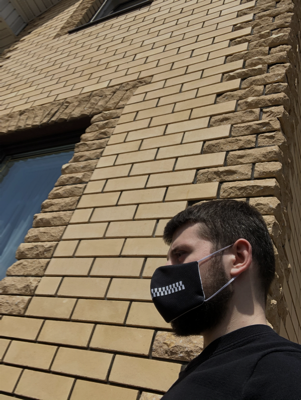with_mask: (150, 233, 209, 338)
